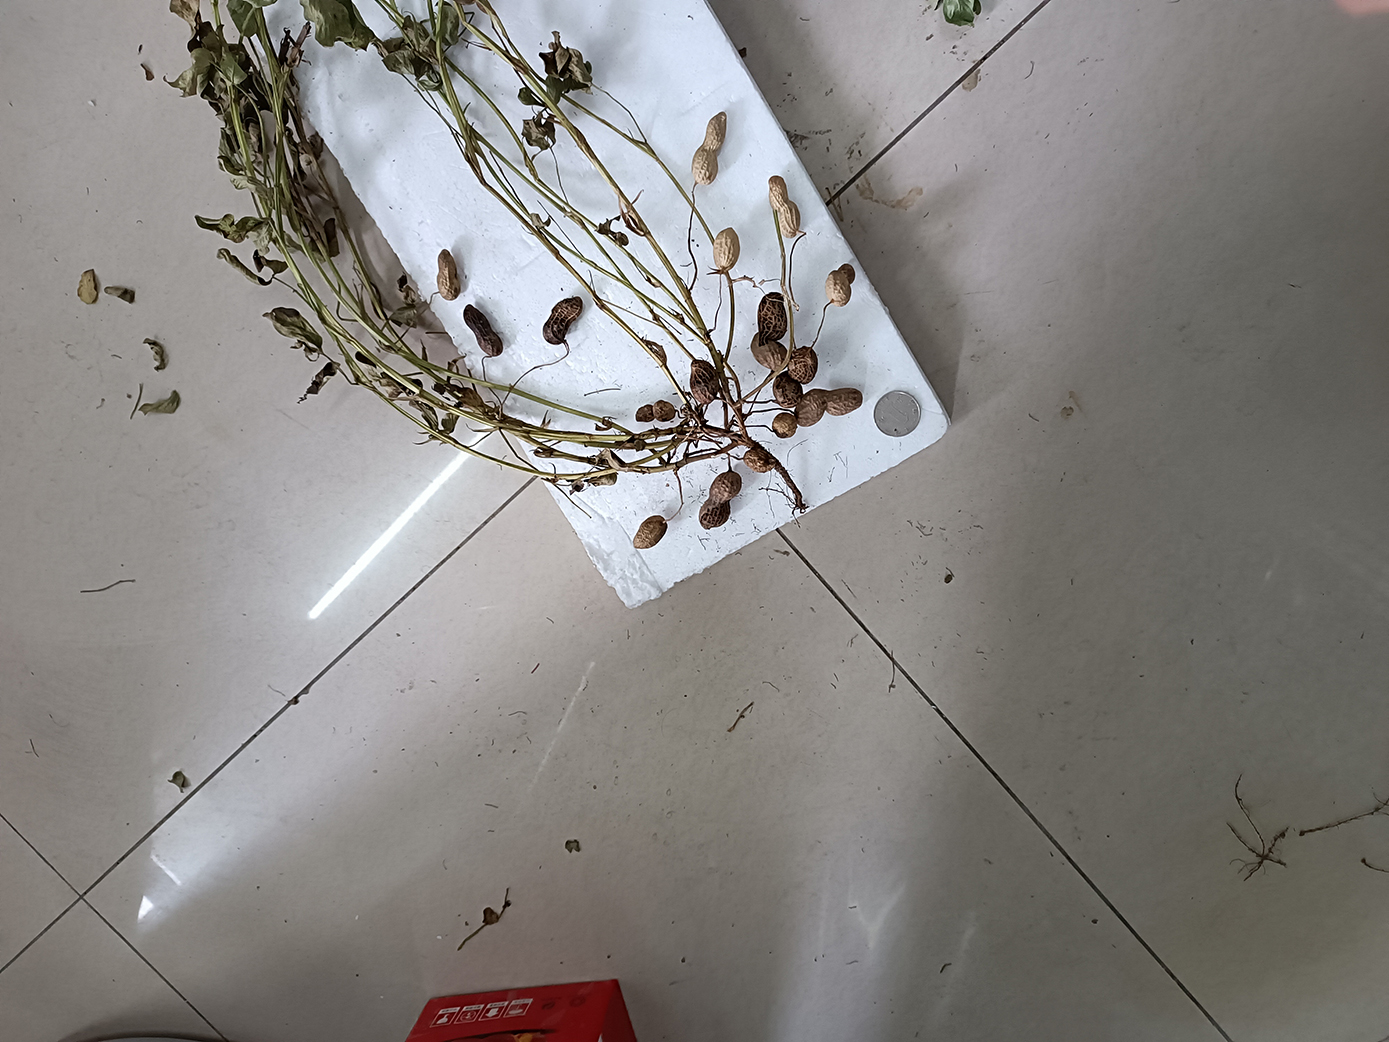h: (691, 111, 727, 186), (795, 387, 863, 427), (768, 174, 801, 239), (824, 263, 856, 308), (436, 248, 461, 302), (711, 225, 740, 273), (773, 412, 797, 439)
l: (750, 292, 787, 371), (698, 471, 742, 530), (463, 304, 503, 357), (542, 296, 583, 345), (688, 359, 719, 404), (632, 514, 668, 549), (787, 346, 818, 385), (773, 371, 803, 408), (634, 400, 676, 422), (743, 448, 776, 473)
